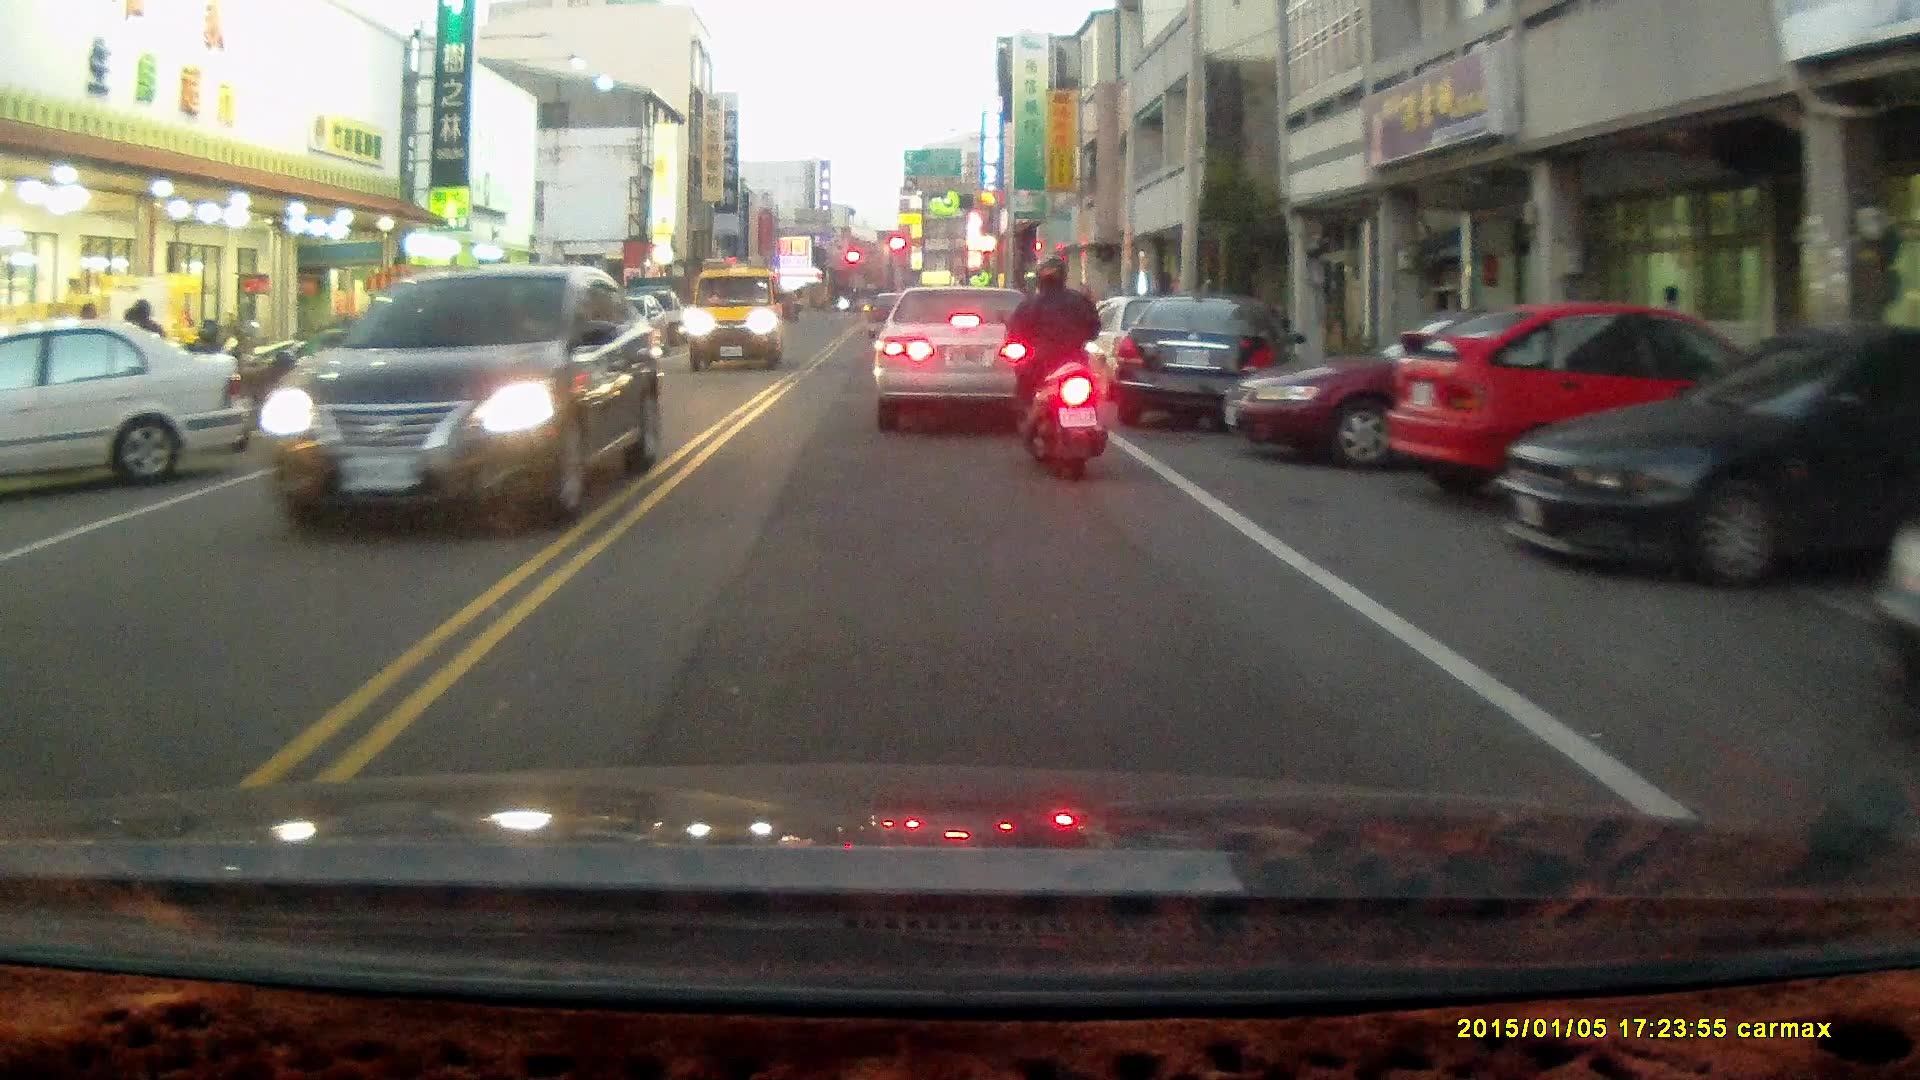rider: (996, 252, 1114, 481)
vehicle: (1491, 324, 1920, 590), (262, 261, 666, 529), (1384, 301, 1792, 514), (1220, 311, 1663, 470), (1, 317, 237, 500), (870, 282, 1048, 422), (1103, 294, 1279, 429), (685, 265, 783, 370)
